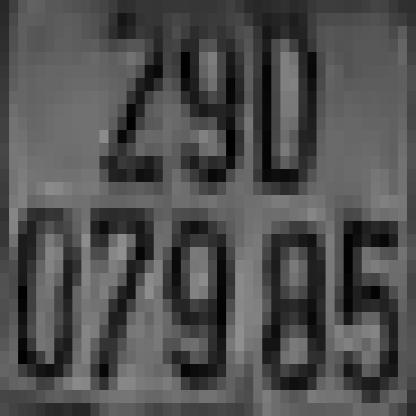0: (18, 208, 81, 377)
2: (99, 13, 172, 182)
5: (334, 208, 389, 390)
7: (90, 208, 154, 377)
8: (253, 208, 317, 377)
9: (163, 208, 226, 377), (181, 26, 235, 195)
D: (244, 26, 317, 182)
